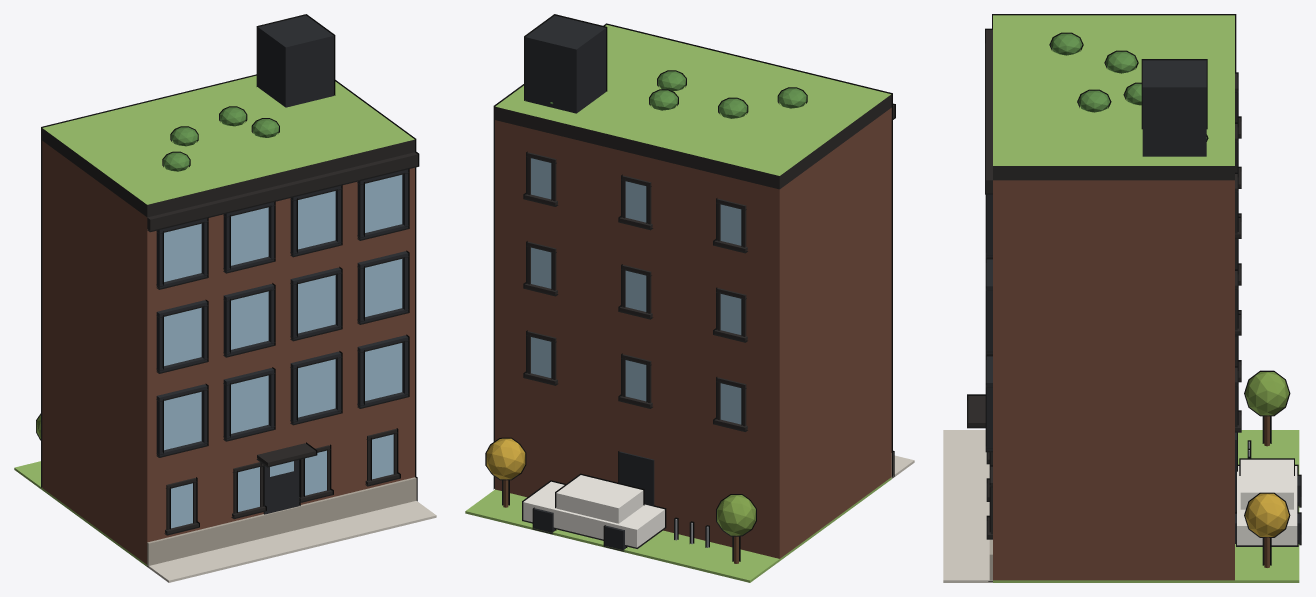
File: Blok_duz_4k_6.fbx
3 views of the same model, side by side, from view 1: azimuth 30°, elevation 25°; view 2: azimuth 150°, elevation 25°; view 3: azimuth 270°, elevation 25° (orthographic). The views are drawn at different scales.
Visible parts, largest first — view 1: Blok_duz_4k_6; view 2: Blok_duz_4k_6; view 3: Blok_duz_4k_6.
Part boxes in pixels (x1,y1,x2,y2): Blok_duz_4k_6: [14, 14, 436, 582]; Blok_duz_4k_6: [465, 14, 914, 582]; Blok_duz_4k_6: [943, 14, 1301, 582].
Bounding box in the file's own units: 10.06 × 15.11 × 10.07.
